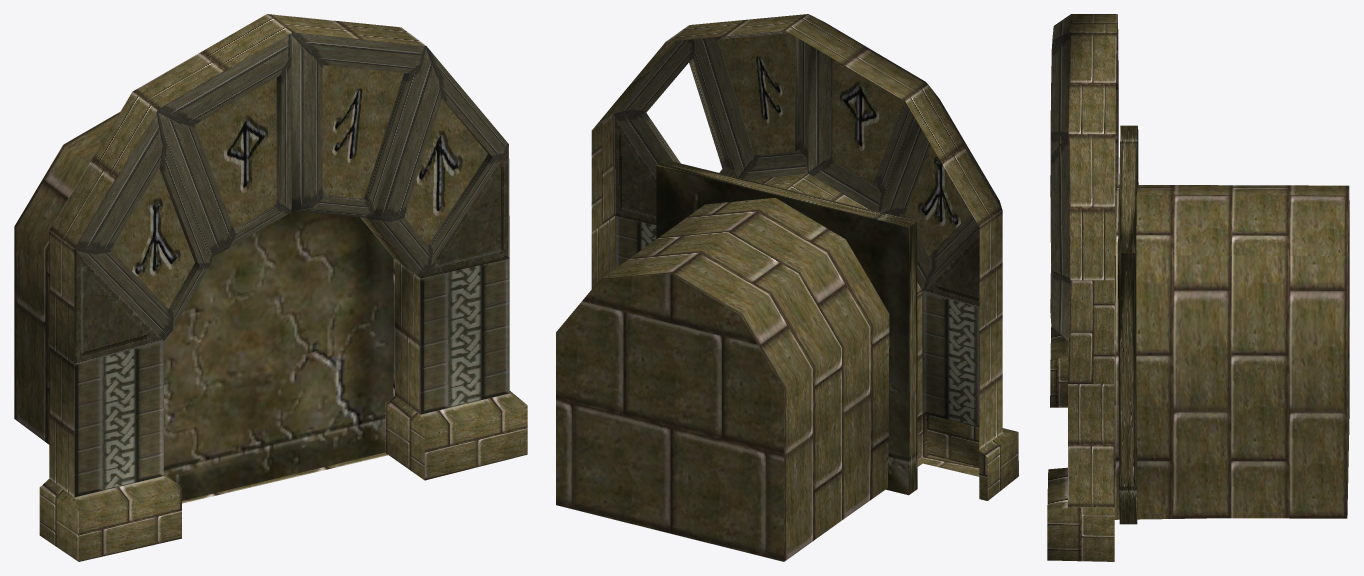
File: INST_SM_RUNE_ROOMC.fbx
3 renders of one model, left to right at view 1: azimuth 30°, elevation 25°; view 2: azimuth 150°, elevation 25°; view 3: azimuth 270°, elevation 25°, orthographic. The views are drawn at different scales.
Visible parts, largest first — view 1: INST_SM_RUNE_ROOMC; view 2: INST_SM_RUNE_ROOMC; view 3: INST_SM_RUNE_ROOMC.
Part boxes in pixels (box(x1,y1,x2,y2)): INST_SM_RUNE_ROOMC: box(14, 14, 527, 561); INST_SM_RUNE_ROOMC: box(556, 14, 1018, 561); INST_SM_RUNE_ROOMC: box(1047, 14, 1349, 561).
Size of the model in its own units: 29531 by 29475 by 18665.
Materials: 9 (9 with a texture image).
